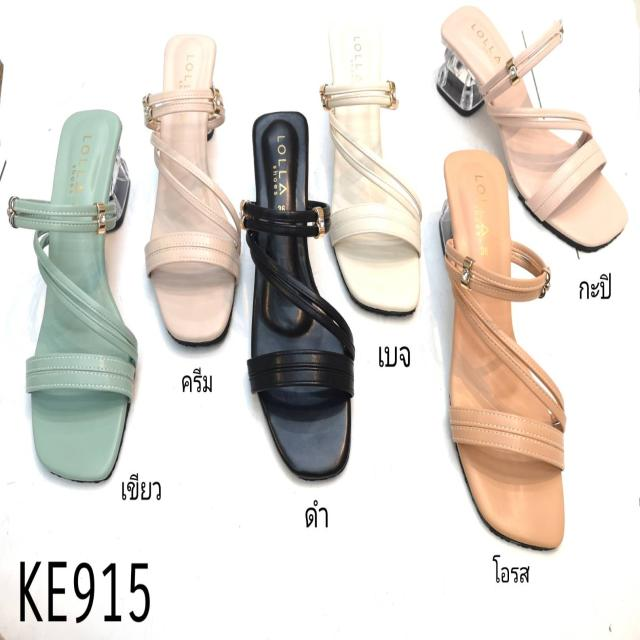bej: (323, 25, 419, 324)
black: (244, 113, 351, 479)
green: (16, 109, 138, 481), (144, 33, 242, 350)
kapi: (438, 5, 626, 249)
orot: (442, 150, 568, 550)
